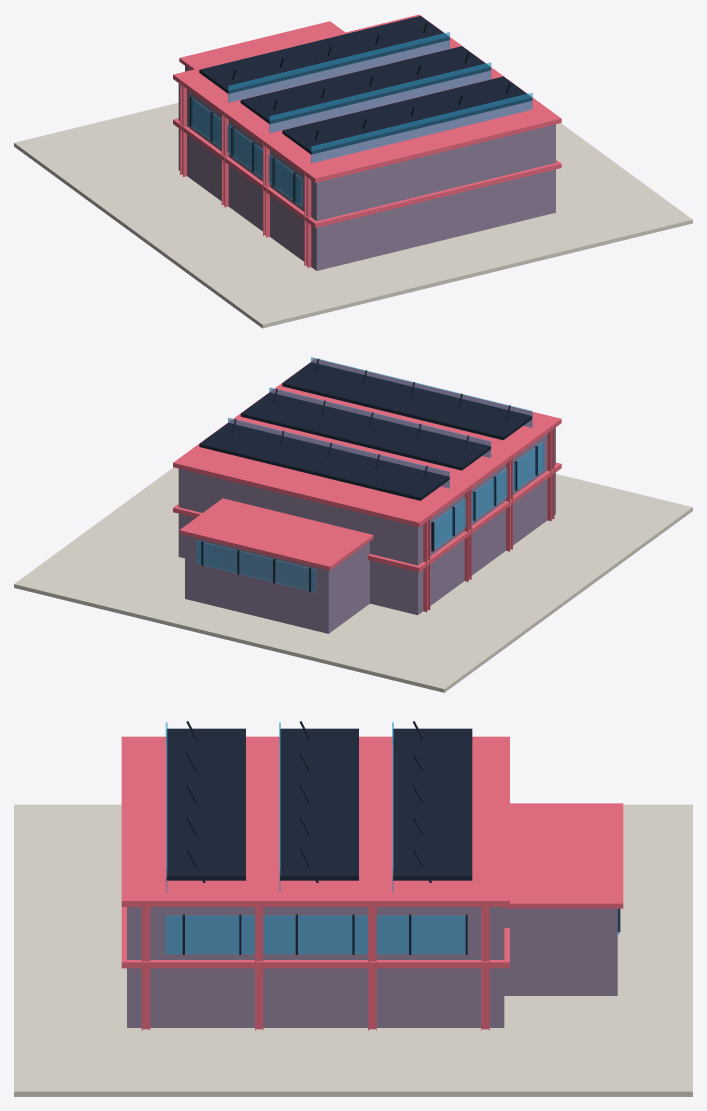
The model's file is hq_06_interior_l1.glb.
3 views of the same model, one above another, from view 1: azimuth 30°, elevation 25°; view 2: azimuth 150°, elevation 25°; view 3: azimuth 270°, elevation 25° (orthographic). The views are drawn at different scales.
Visible parts, largest first — view 1: GEO_Interior_Foundation_Plinth, GEO_Interior_Studio_Halls, GEO_Interior_Structural_Columns, GEO_Interior_Sawtooth_Roof_Structure, GEO_Interior_Sawtooth_Skylight_Glass, GEO_Interior_Studio_Ribbon_Glass, GEO_Interior_Window_Mullion_Frames; view 2: GEO_Interior_Foundation_Plinth, GEO_Interior_Studio_Halls, GEO_Interior_Structural_Columns, GEO_Interior_Sawtooth_Roof_Structure, GEO_Interior_Studio_Ribbon_Glass, GEO_Interior_Sawtooth_Skylight_Glass, GEO_Interior_Window_Mullion_Frames; view 3: GEO_Interior_Foundation_Plinth, GEO_Interior_Structural_Columns, GEO_Interior_Studio_Halls, GEO_Interior_Sawtooth_Roof_Structure, GEO_Interior_Studio_Ribbon_Glass, GEO_Interior_Sawtooth_Skylight_Glass, GEO_Interior_Window_Mullion_Frames.
Part boxes in pixels (left/top/right/bottom): GEO_Interior_Foundation_Plinth: left=14, top=102, right=692, bottom=328; GEO_Interior_Studio_Halls: left=178, top=66, right=555, bottom=270; GEO_Interior_Structural_Columns: left=173, top=14, right=561, bottom=267; GEO_Interior_Sawtooth_Roof_Structure: left=199, top=16, right=532, bottom=154; GEO_Interior_Sawtooth_Skylight_Glass: left=228, top=32, right=532, bottom=163; GEO_Interior_Studio_Ribbon_Glass: left=191, top=98, right=302, bottom=206; GEO_Interior_Window_Mullion_Frames: left=189, top=96, right=296, bottom=202; GEO_Interior_Foundation_Plinth: left=14, top=467, right=692, bottom=692; GEO_Interior_Studio_Halls: left=178, top=427, right=555, bottom=633; GEO_Interior_Structural_Columns: left=173, top=359, right=561, bottom=612; GEO_Interior_Sawtooth_Roof_Structure: left=199, top=358, right=532, bottom=500; GEO_Interior_Studio_Ribbon_Glass: left=196, top=442, right=543, bottom=592; GEO_Interior_Sawtooth_Skylight_Glass: left=228, top=357, right=532, bottom=488; GEO_Interior_Window_Mullion_Frames: left=201, top=446, right=537, bottom=592; GEO_Interior_Foundation_Plinth: left=14, top=804, right=692, bottom=1096; GEO_Interior_Structural_Columns: left=121, top=736, right=623, bottom=1030; GEO_Interior_Studio_Halls: left=127, top=907, right=617, bottom=1027; GEO_Interior_Sawtooth_Roof_Structure: left=166, top=721, right=472, bottom=882; GEO_Interior_Studio_Ribbon_Glass: left=165, top=909, right=619, bottom=953; GEO_Interior_Sawtooth_Skylight_Glass: left=165, top=722, right=393, bottom=892; GEO_Interior_Window_Mullion_Frames: left=182, top=908, right=620, bottom=954.
Size of what is drawn, in the model's own units: 36 by 9.85 by 36.
